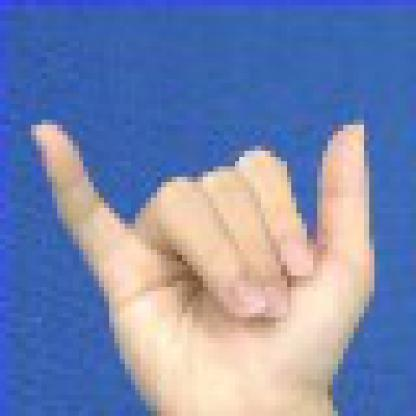six: (21, 104, 411, 411)
